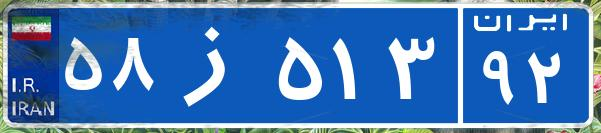1: (330, 28, 385, 110)
2: (525, 38, 570, 115)
3: (385, 28, 445, 110)
5: (273, 28, 330, 110), (57, 26, 110, 107)
8: (110, 28, 158, 105)
9: (475, 38, 525, 113)
ز: (158, 15, 273, 115)
